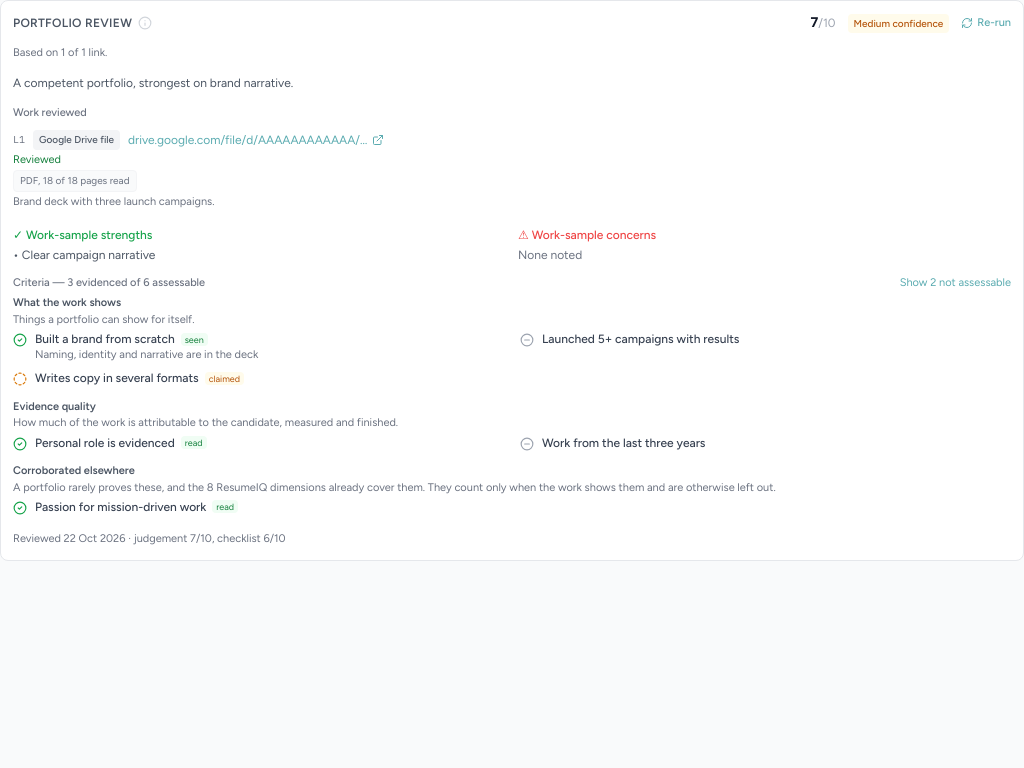
Test: PortfolioReviewCard — marketing work samples: completed › the criteria › counts only what could be assessed, and reveals the rest behind "Show N not assessable"
Expected: the text "A competent portfolio, strongest on brand narrative." is shown, [13,76,293,90]
Expected: the text "Criteria — 3 evidenced of 6 assessable" is shown, [13,275,205,291]
Click the button "Show 2 not assessable" at (955, 283), box [900,275,1011,291]
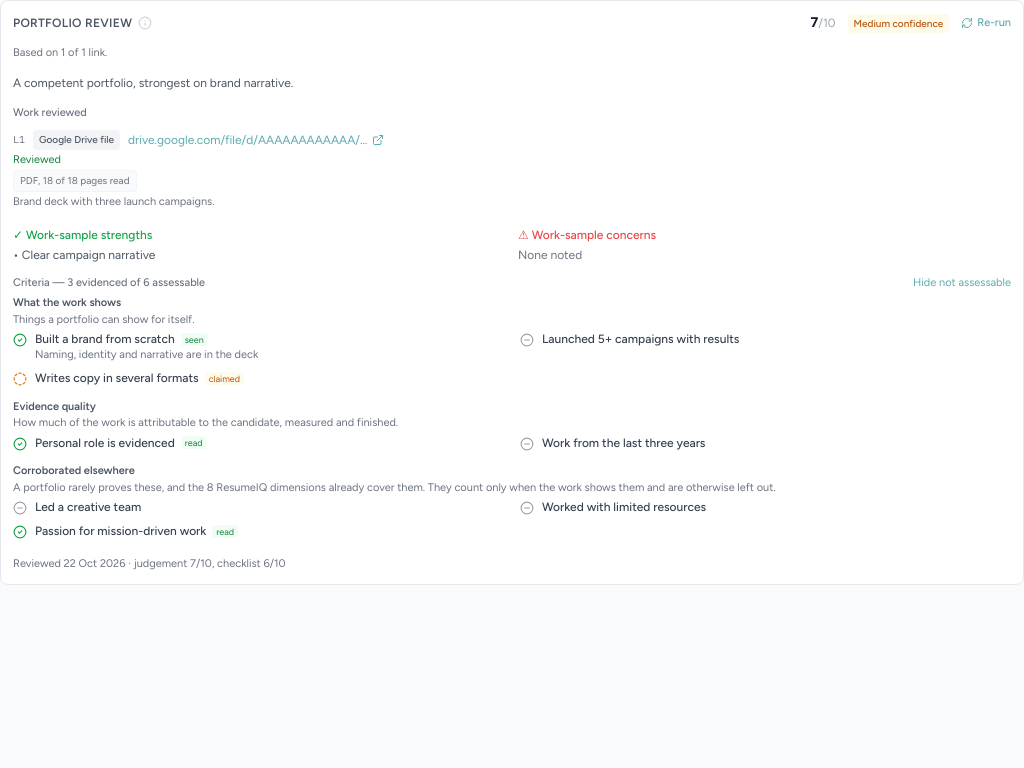
Expected: the text "Criteria — 3 evidenced of 6 assessable" is shown, [13,275,205,291]
Expected: the text "Led a creative team" is shown, [35,499,141,515]
Expected: the text "Worked with limited resources" is shown, [542,499,706,515]
Click the button "Hide not assessable" at (962, 283), box [913,275,1011,291]
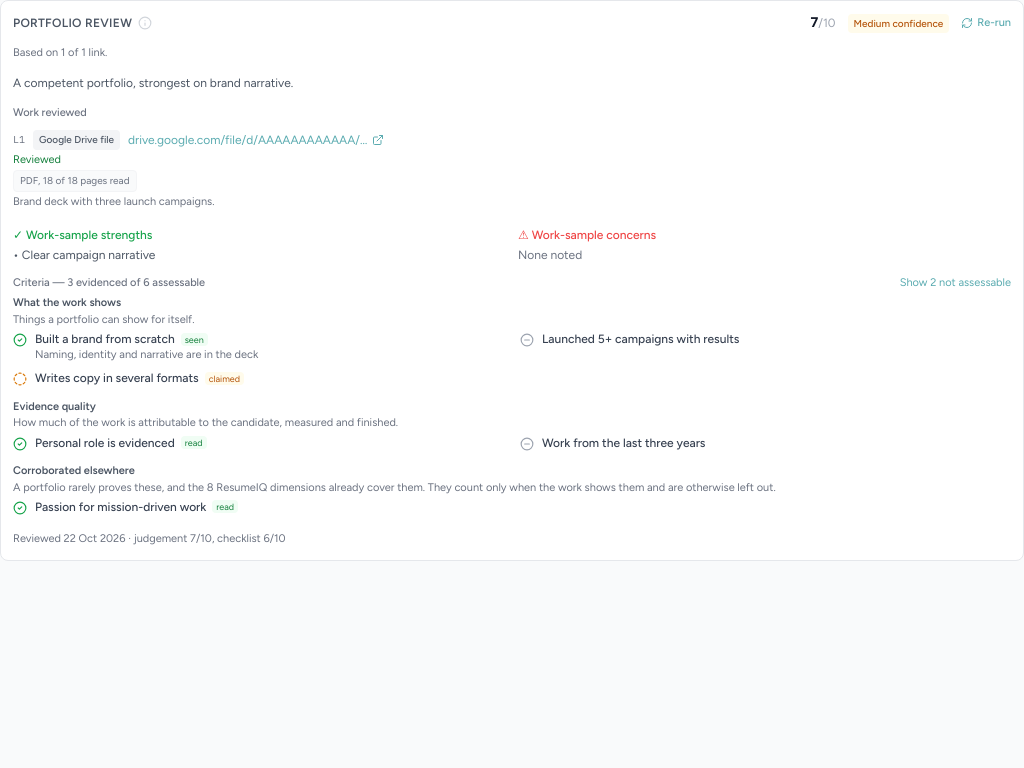
Expected: the text "Led a creative team" is gone
